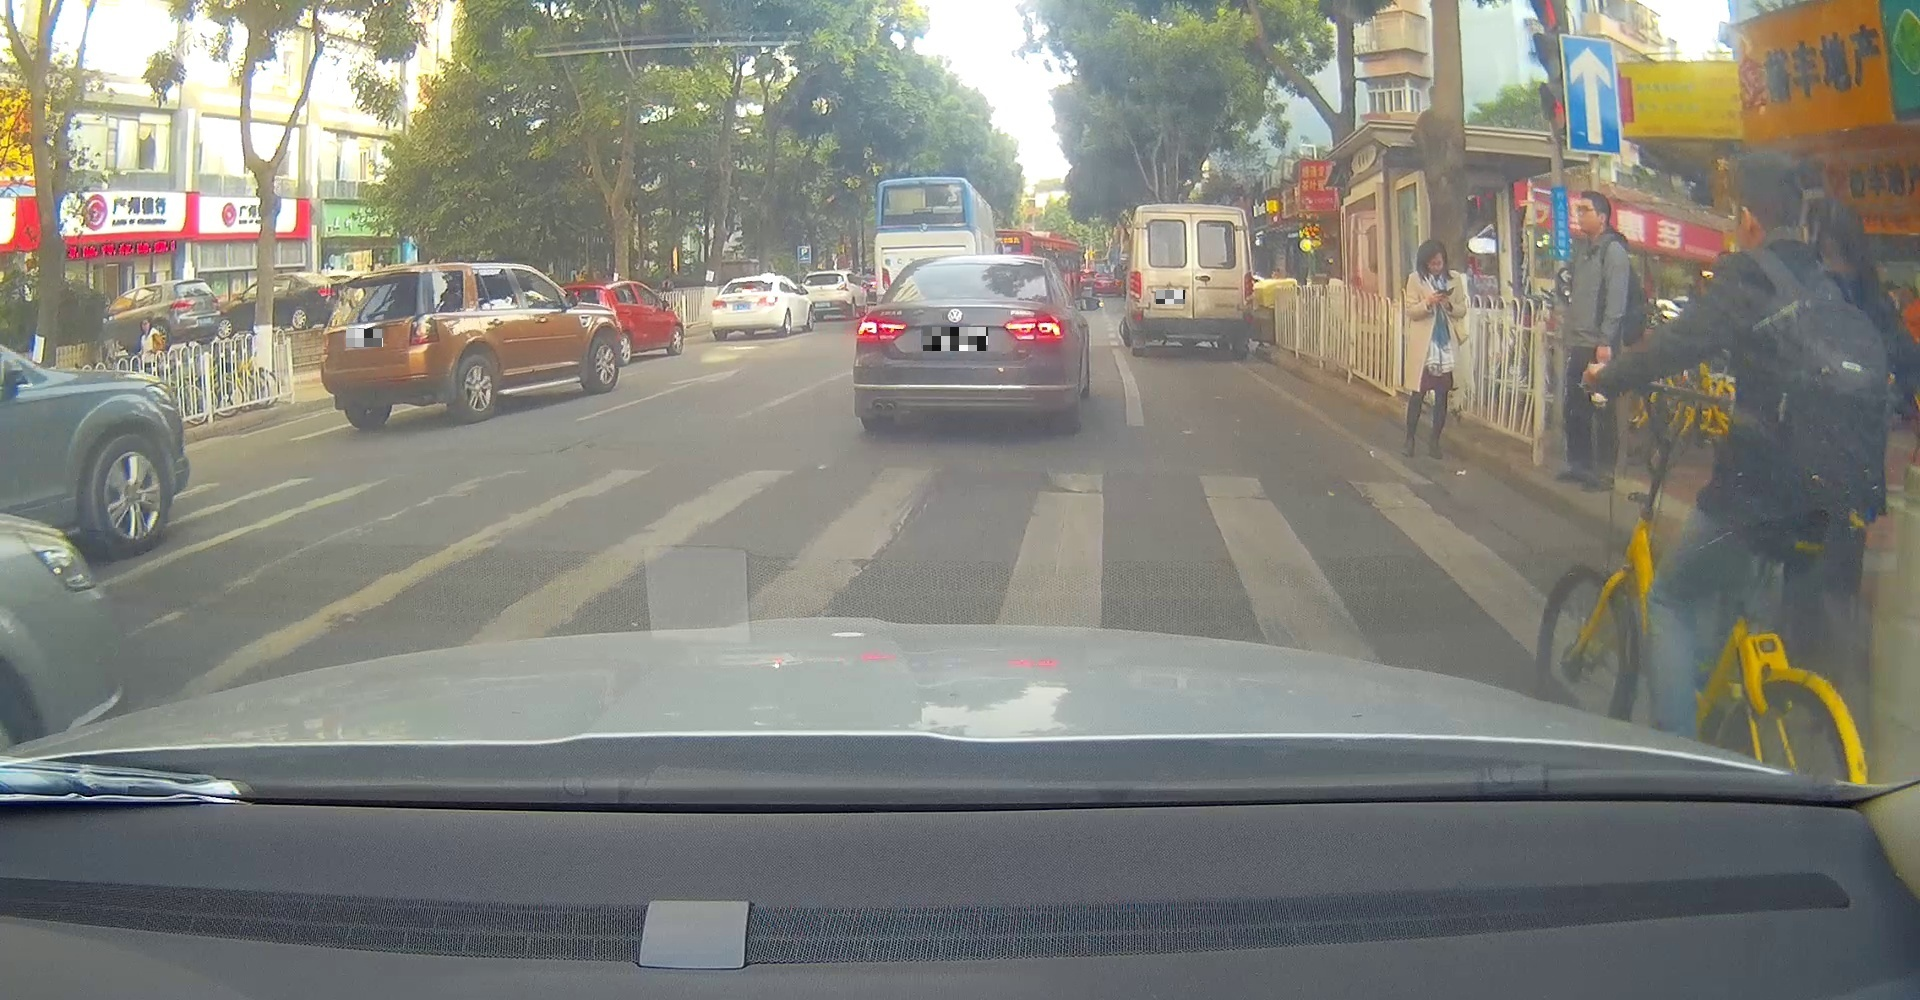L_light: (855, 319, 905, 343), (1126, 270, 1143, 301), (319, 331, 331, 363), (710, 299, 728, 310)
R_light: (1002, 313, 1065, 345), (406, 311, 442, 346), (1242, 272, 1256, 303), (756, 294, 778, 308)
T_light: (361, 272, 392, 279), (945, 292, 975, 297), (1183, 211, 1203, 216), (742, 289, 750, 294)
day-brake: (852, 254, 1065, 431), (709, 275, 782, 341)
day-no: (317, 264, 444, 431), (1123, 201, 1257, 357)
plate_1: (345, 329, 383, 346)
plate_2: (923, 327, 988, 352)
plate_3: (1156, 291, 1185, 305)
